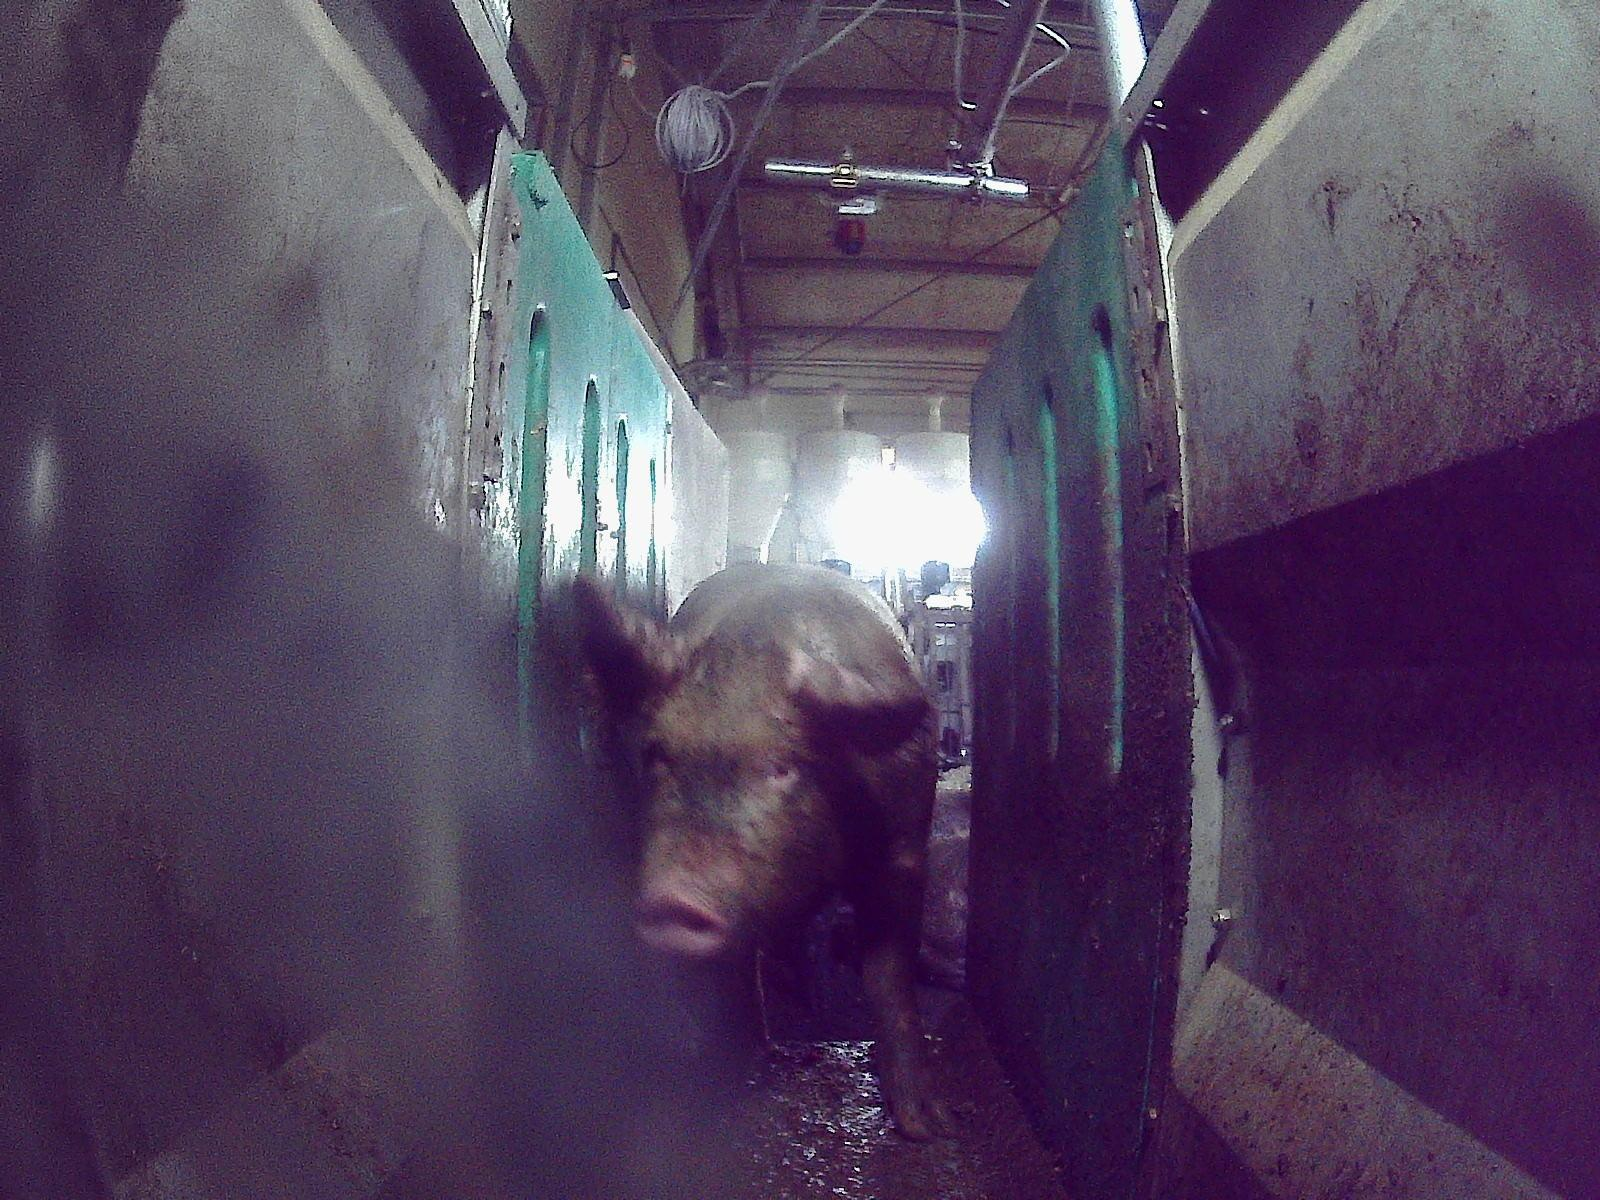Face: (629, 625, 857, 957)
